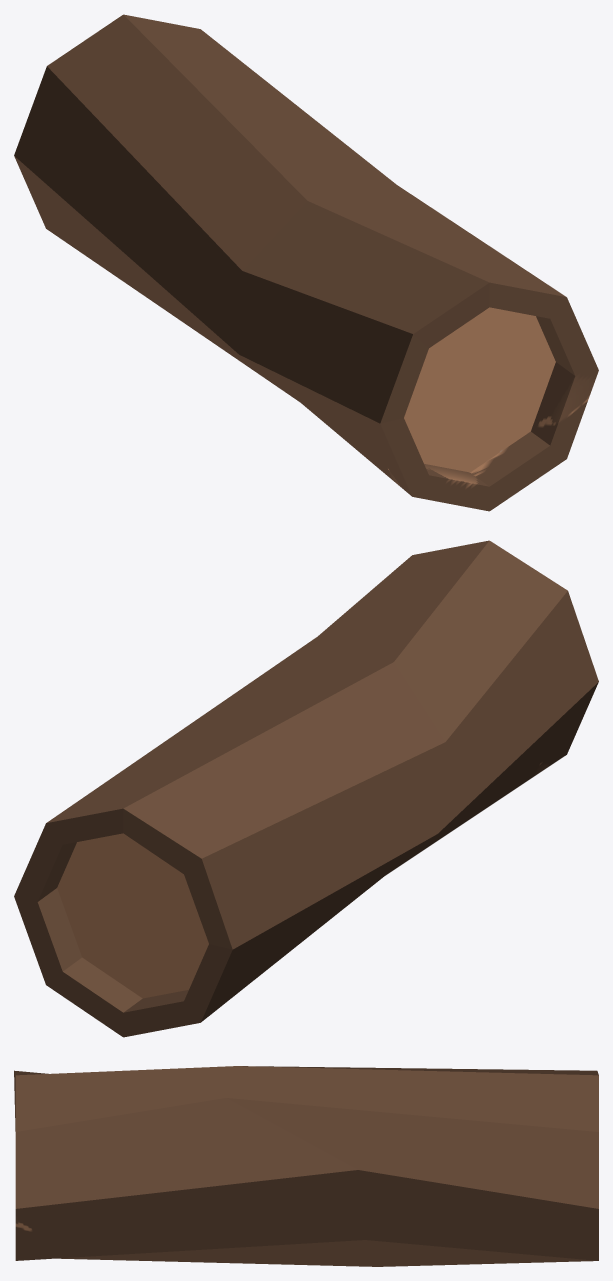
The model's file is log.fbx.
The picture shows the model from 3 angles, top to bottom: view 1: azimuth 30°, elevation 25°; view 2: azimuth 150°, elevation 25°; view 3: azimuth 270°, elevation 25°; orthographic projection. The views are drawn at different scales.
Parts seen in each view (by area): view 1: Cylinder; view 2: Cylinder; view 3: Cylinder.
Boxes of the visible parts, x1,y1,x2,y2 form: Cylinder: (14,14,598,511); Cylinder: (14,540,598,1037); Cylinder: (14,1066,598,1266).
Bounding box in the file's own units: 200 × 200 × 582.
1 material, 1 textured.
